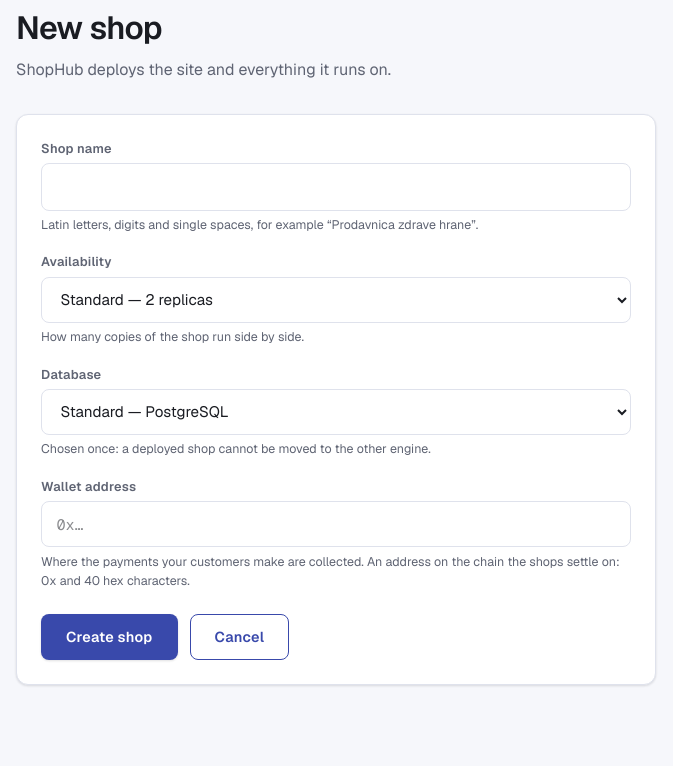
NewShopPage › lets the owner try again after a failure
This screenshot has width=673, height=766.
Type "Prodavnica odece" into the field labelled "Shop name" at (336, 187), box x1=41 y1=163 x2=631 y2=211
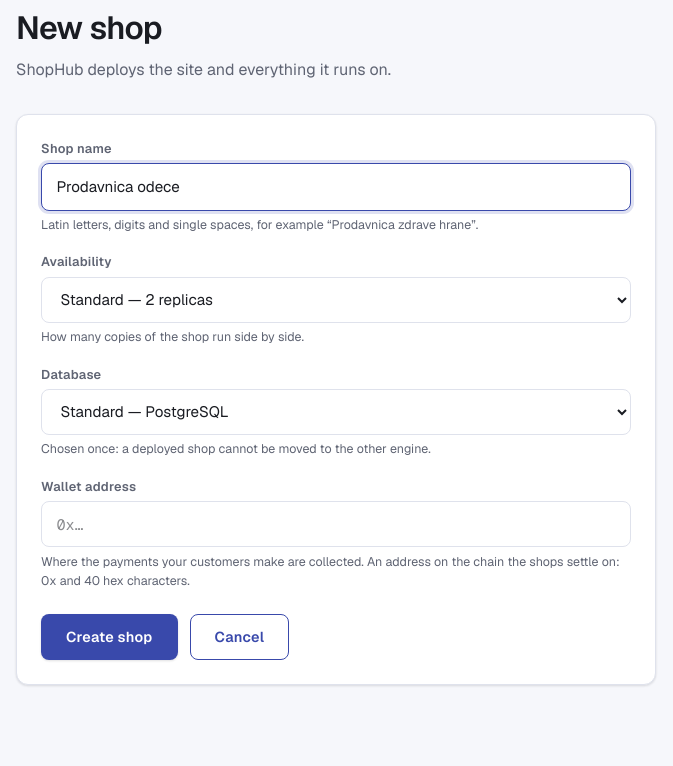
Type "0x742d35Cc6634C0532925a3b844Bc9e7595f42D0B" into the field labelled "Wallet address" at (336, 524), box x1=41 y1=501 x2=631 y2=547
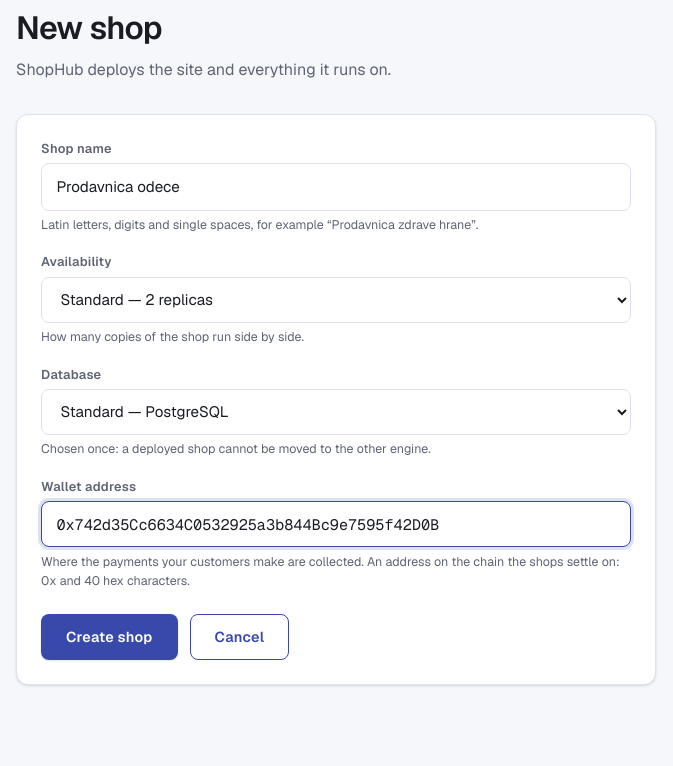
Click the button "Create shop" at (109, 637), box x1=41 y1=614 x2=178 y2=660
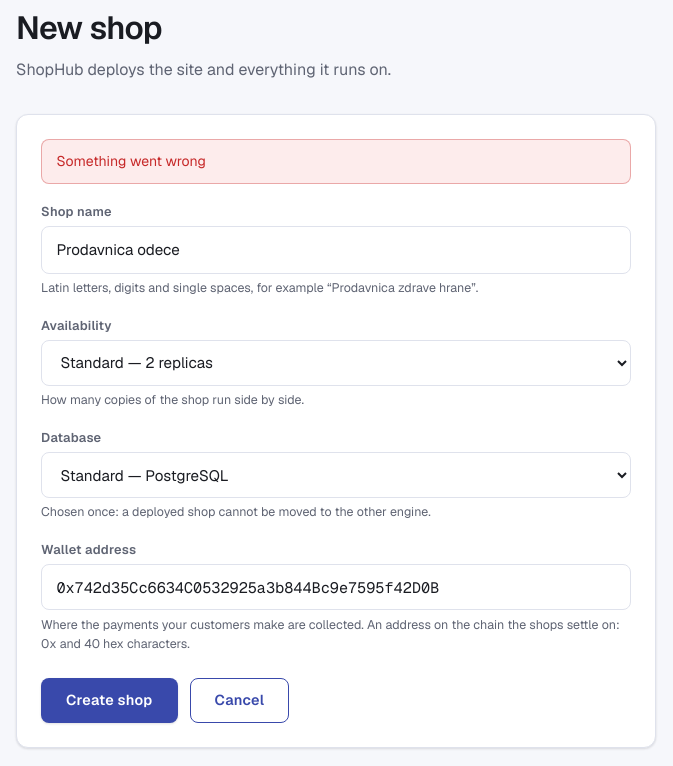
Check: the button "Create shop" is enabled, box x1=41 y1=678 x2=178 y2=724
Check: the message "Something went wrong" is shown, box x1=41 y1=139 x2=631 y2=184
